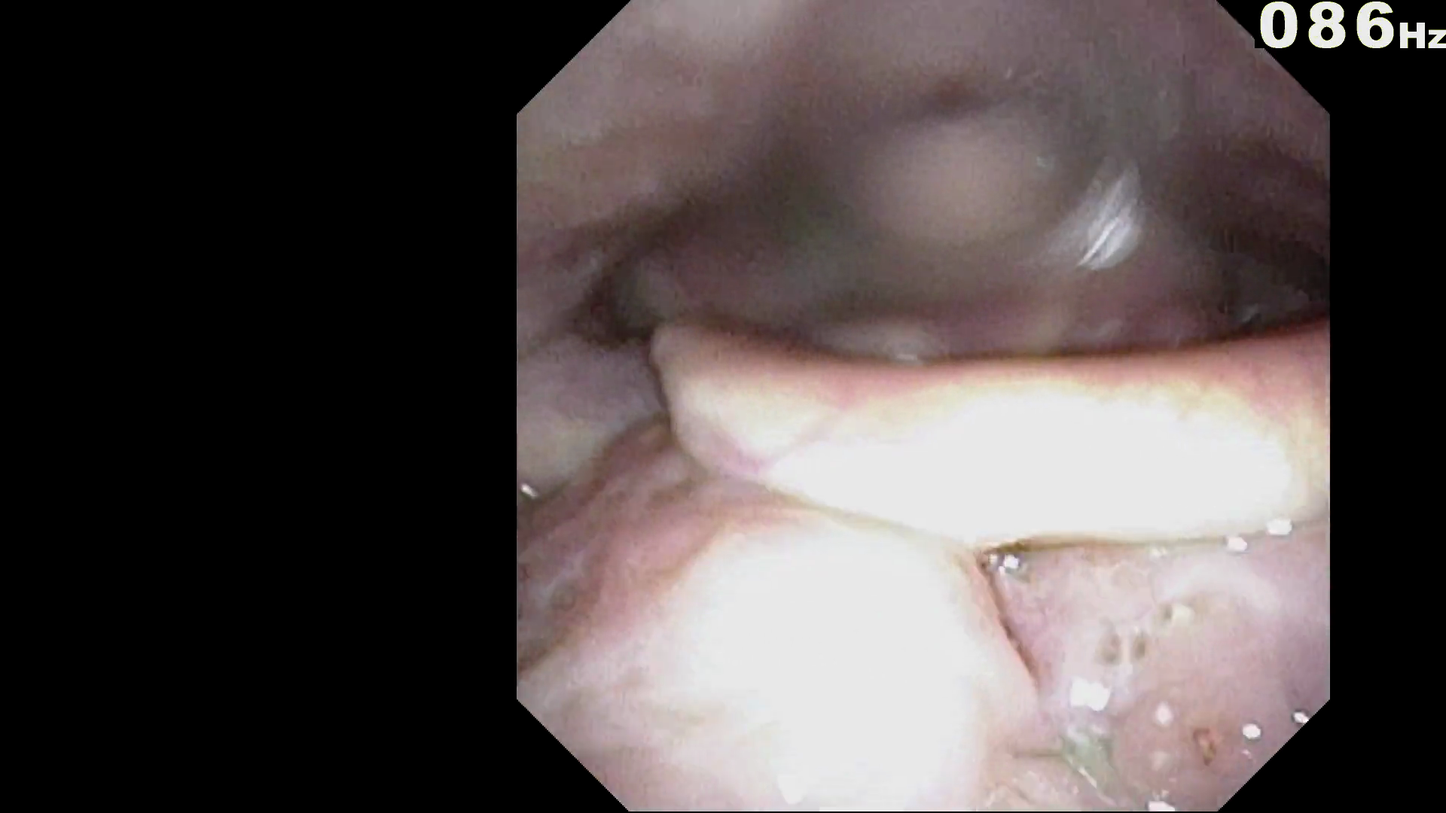epiglottis: (658, 314, 1317, 539)
trachea: (1048, 370, 1150, 455)
